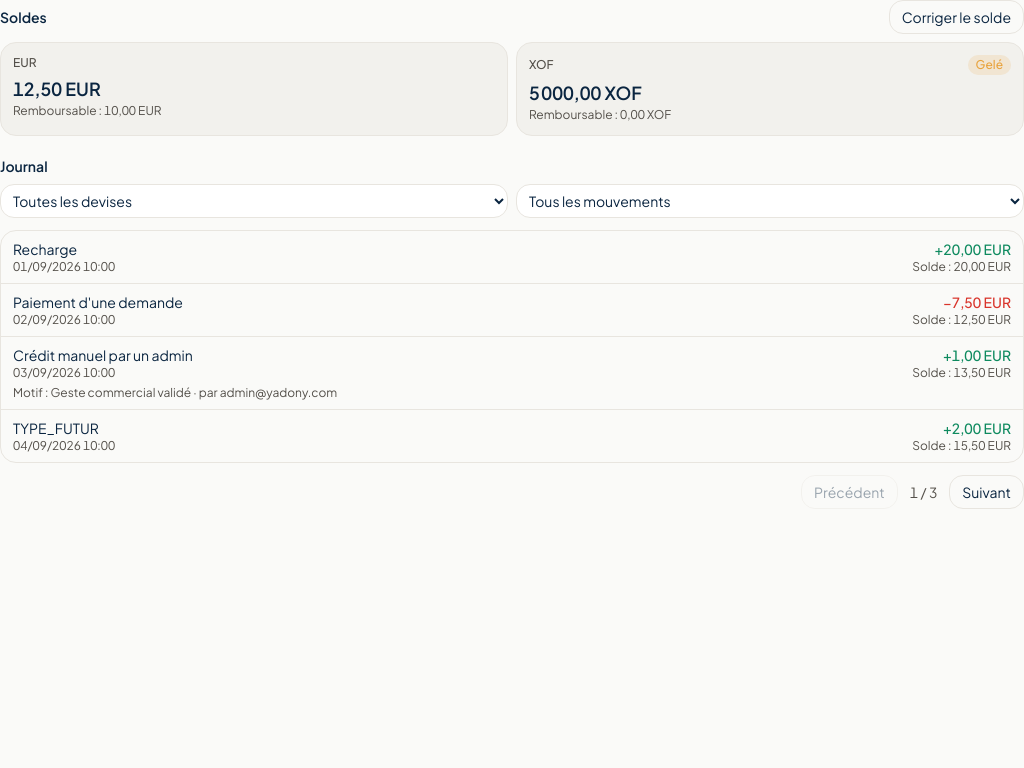
Test: UserWalletTab › au-delà de 100 € : envoyée pour approbation, rien n’est rafraîchi
Click the button with test id "wallet-adjust-open" at (956, 17), box [889, 0, 1023, 34]
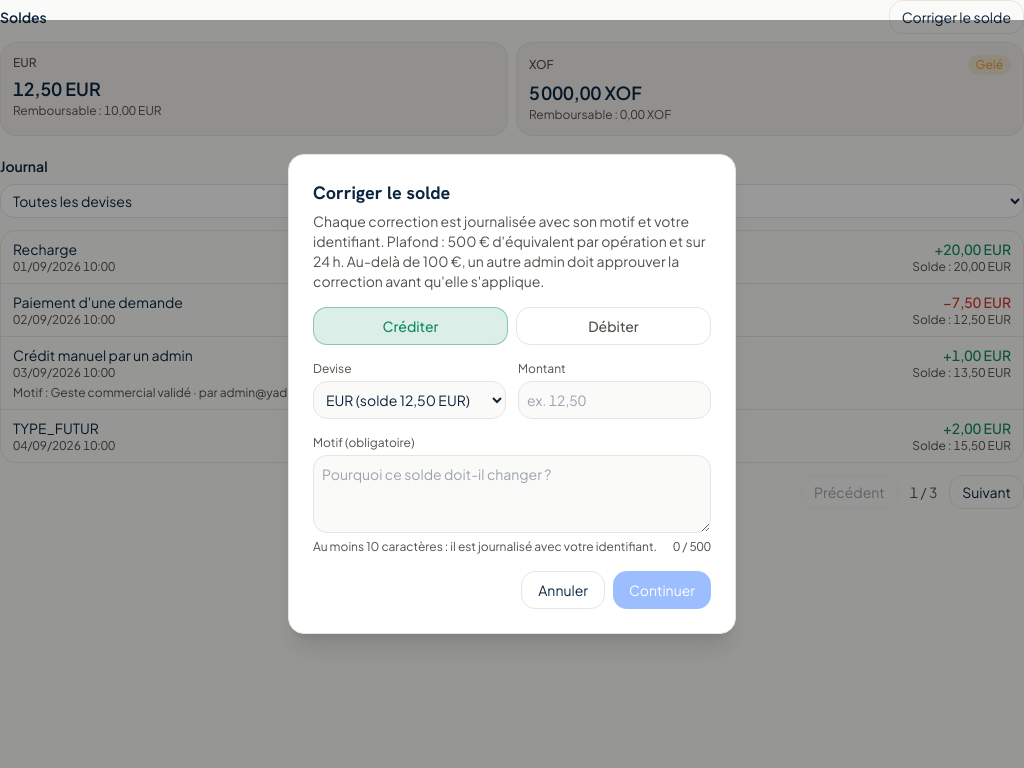
Type "5" into the field with test id "adj-amount" at (614, 400), box [518, 381, 711, 419]
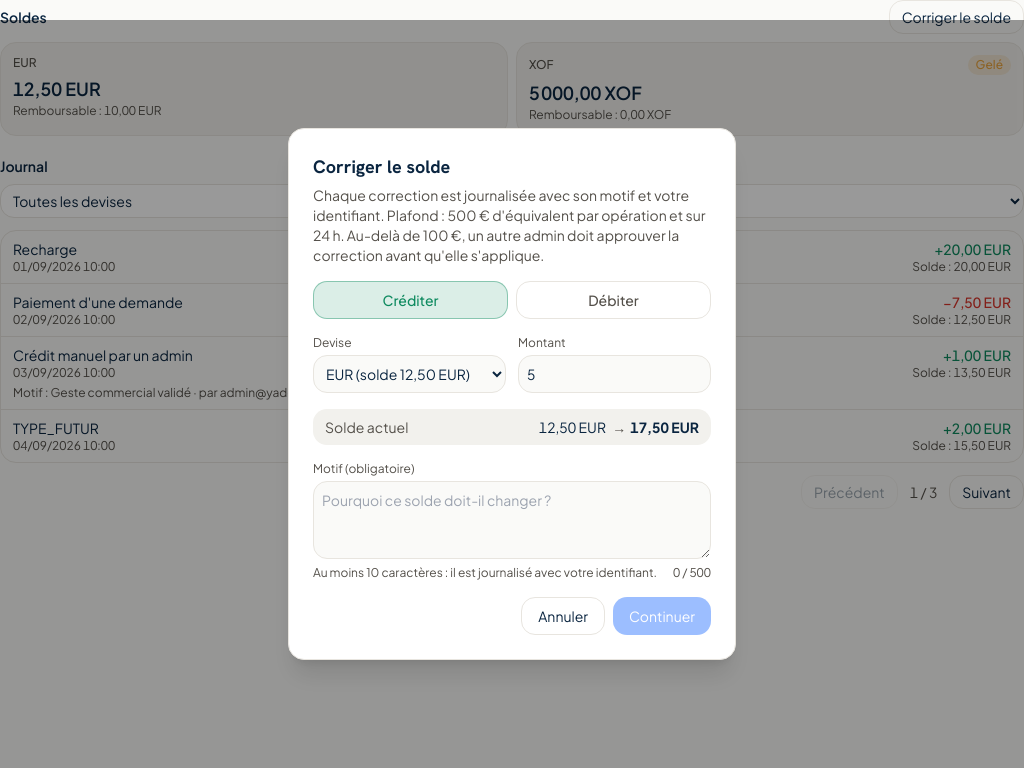
Type "Correction après double débit constaté" into the text box with test id "adj-reason" at (512, 520), box [313, 481, 711, 559]
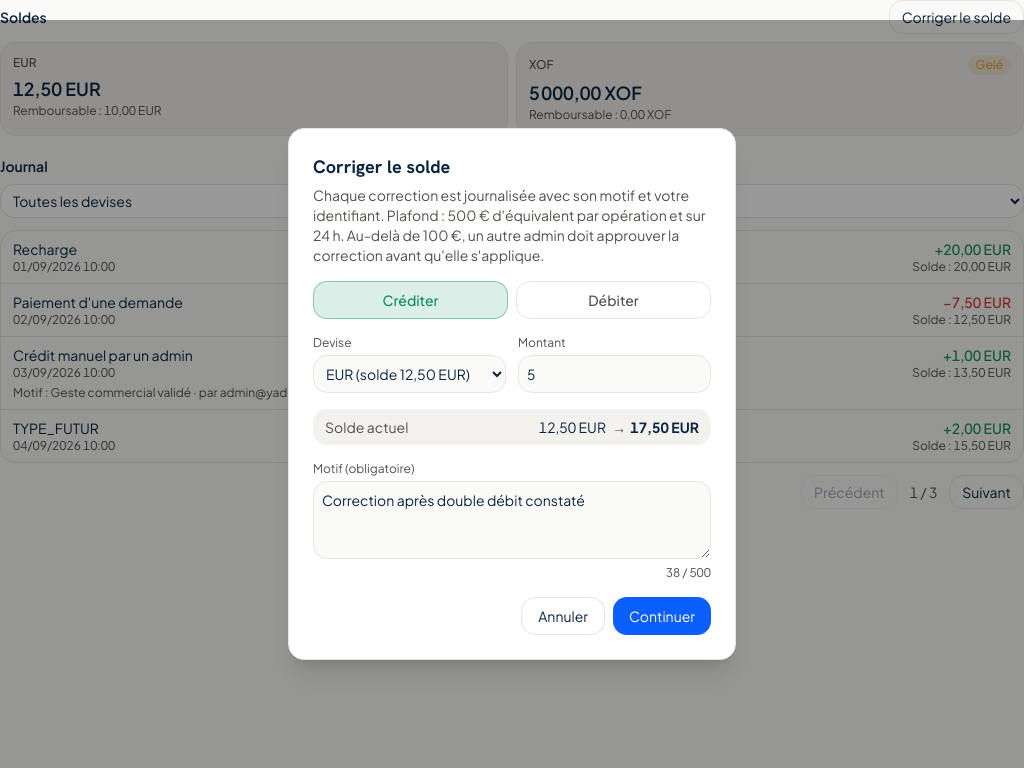
Click the button with test id "adj-continue" at (662, 616), box [613, 597, 711, 635]
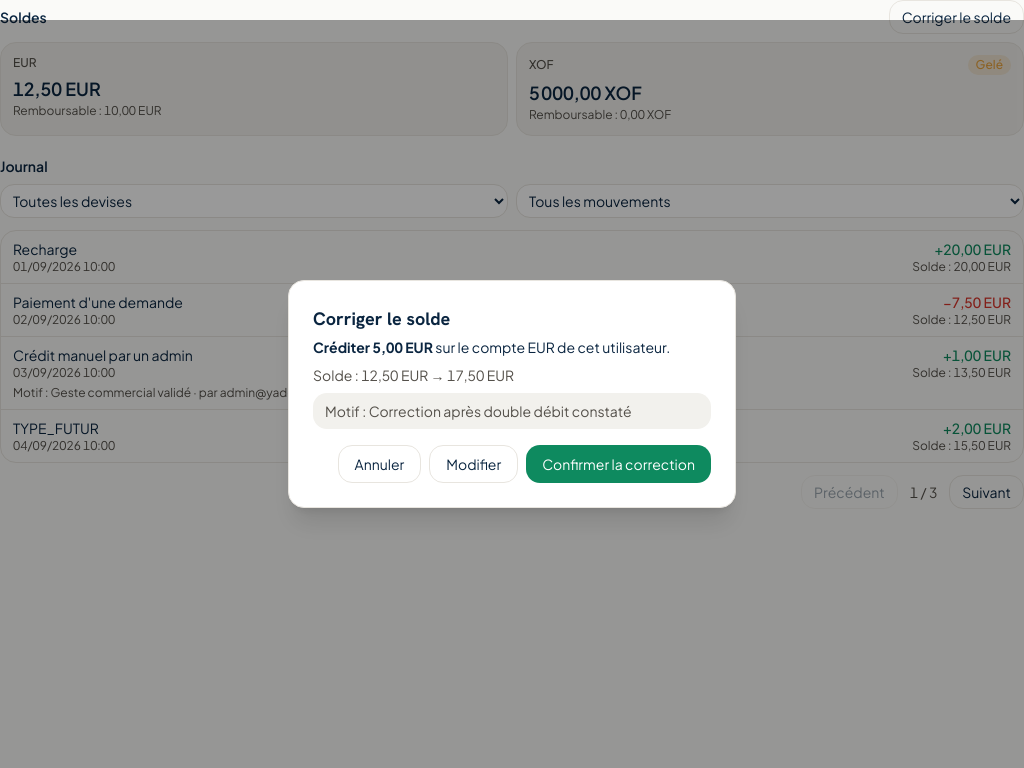
Click the button with test id "adj-confirm" at (619, 464), box [526, 445, 711, 483]
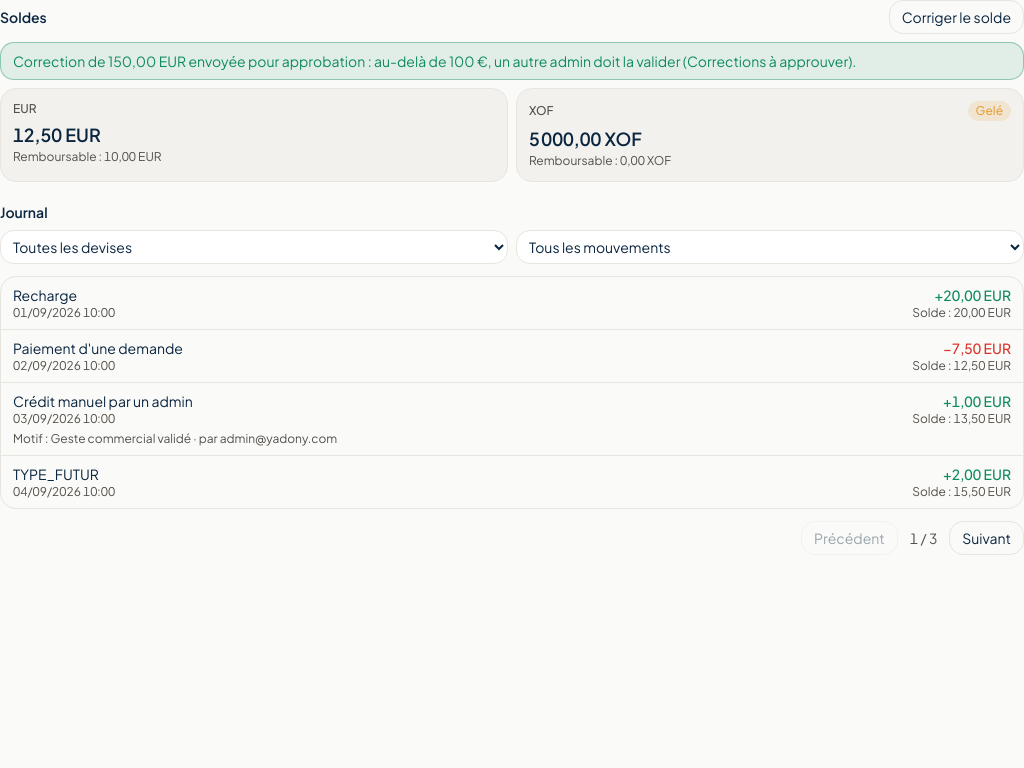
Now the message with test id "wallet-success" shows "envoyée pour approbation", box [13, 52, 856, 70]
Now the message with test id "wallet-success" shows "150,00 EUR", box [13, 52, 856, 70]
